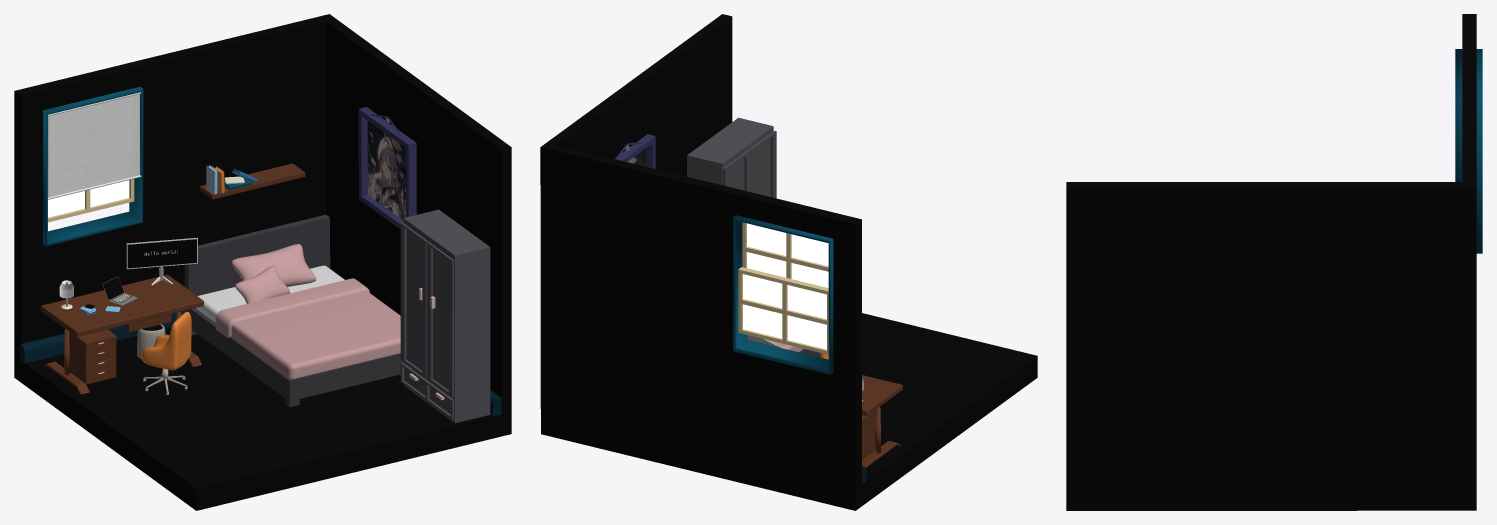
Rendered from room3.glb.
3 views of the same model, side by side, from view 1: azimuth 30°, elevation 25°; view 2: azimuth 150°, elevation 25°; view 3: azimuth 270°, elevation 25° (orthographic). The views are drawn at different scales.
Parts seen in each view (by area): view 1: Wall, Walldrobe, Sheet, Curtain, TopLeg, Cube.009, TableSurface, BottomLeg, Frame, Slide Window 1, pillow, Screen.001 (+8 smaller); view 2: Wall, Slide Window 1, Walldrobe, Slide Window 2, Frame, TableSurface, Cube.009, FloorDrawer; view 3: Wall, Frame.
Boxes of the visible parts, bbox=[...] form: Wall: bbox=[14, 14, 511, 510]; Walldrobe: bbox=[400, 209, 490, 423]; Sheet: bbox=[215, 278, 400, 378]; Curtain: bbox=[48, 94, 139, 197]; TopLeg: bbox=[184, 214, 330, 363]; Cube.009: bbox=[358, 107, 416, 229]; TableSurface: bbox=[40, 274, 203, 336]; BottomLeg: bbox=[238, 343, 403, 407]; Frame: bbox=[43, 86, 143, 246]; Slide Window 1: bbox=[48, 179, 134, 222]; pillow: bbox=[231, 244, 316, 286]; Screen.001: bbox=[126, 237, 197, 269]; Wall: bbox=[540, 14, 1037, 510]; Slide Window 1: bbox=[738, 267, 828, 354]; Walldrobe: bbox=[687, 117, 776, 198]; Slide Window 2: bbox=[742, 222, 828, 287]; Frame: bbox=[733, 215, 833, 374]; TableSurface: bbox=[862, 375, 902, 415]; Cube.009: bbox=[614, 134, 655, 168]; FloorDrawer: bbox=[862, 410, 875, 459]; Wall: bbox=[1066, 14, 1476, 510]; Frame: bbox=[1455, 49, 1482, 253].
Bounding box in the file's own units: 30.04 × 26.1 × 30.44.
Materials: 28 (1 with a texture image).
